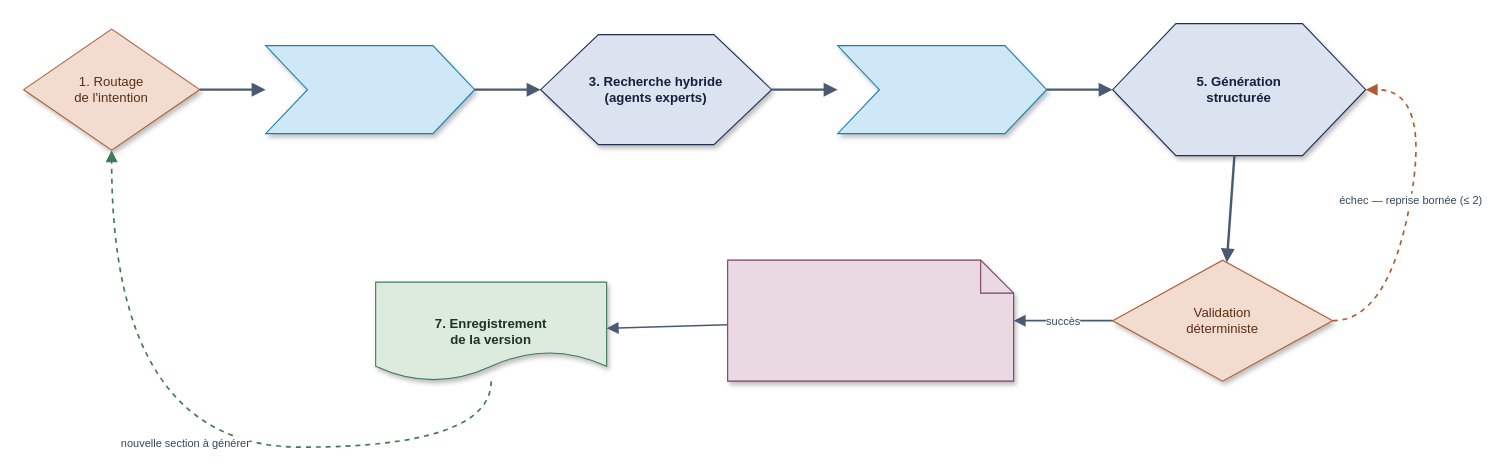
Image size: 1502x469. Some labels were removed from this diagram. The shapes that lost their labels are listed below. From the top down, each one's centre as x and y in pixels, then its label:
(x=370, y=90): 2. Construction de la requête
(x=942, y=90): 4. Assemblage du contexte
(x=871, y=322): 6. Revue humaine approuver · corriger · relancer
